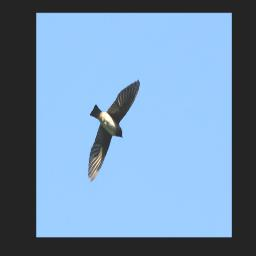Swallow: (86, 78, 138, 183)
